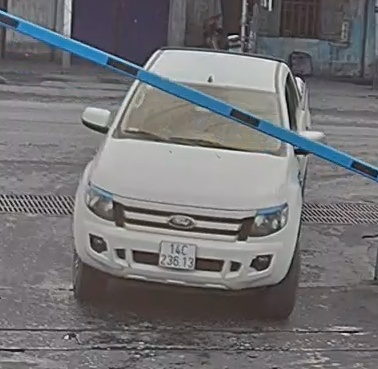vehicle plate: (157, 238, 198, 271)
